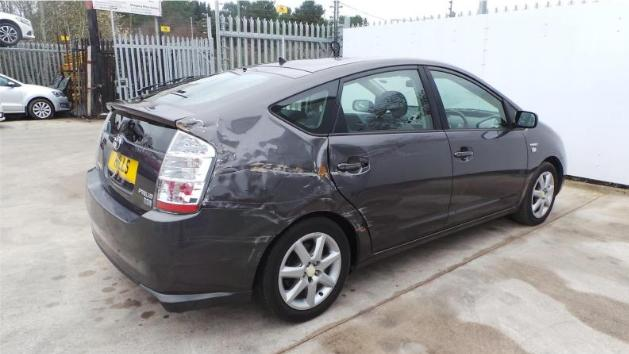Back-bumper: (85, 168, 288, 311)
Back-door: (329, 64, 452, 253)
Back-wheel: (254, 218, 350, 323)
Back-window: (340, 70, 434, 132), (270, 78, 338, 134)
Back-windshield: (151, 71, 275, 105)
Fender: (518, 122, 566, 210)
Front-door: (423, 66, 527, 228)
Front-wheel: (515, 161, 557, 226)
Front-window: (430, 71, 507, 129)
License-plate: (108, 149, 139, 194), (108, 149, 139, 185)
Mirror: (515, 111, 538, 128)
Quarter-panel: (179, 108, 371, 260)
Rocker-panel: (357, 204, 517, 268)
Roof: (256, 57, 523, 110)
Tail-light: (153, 129, 216, 214)
Trunk: (94, 64, 309, 211)
